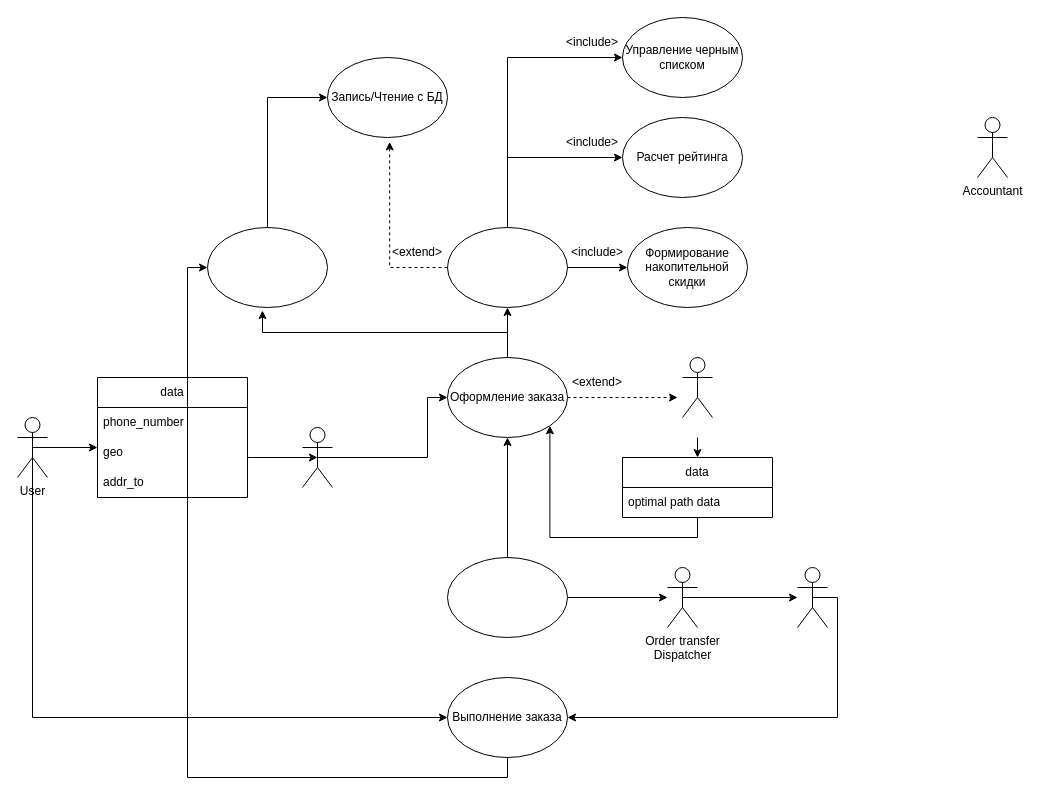
Image size: 1040x803. Some labels were removed from this diagram. The shapes that lost their labels are listed below. From the top down, each one's centre as x and y in pixels, then its label:
the point at 267,267: Ведение статистики заказов
the point at 507,267: Ведение статистики пользователей
the point at 697,387: GIS Service
the point at 317,457: Order Dispatcher
the point at 507,597: Передача заказа исполнителю
the point at 812,597: Driver
